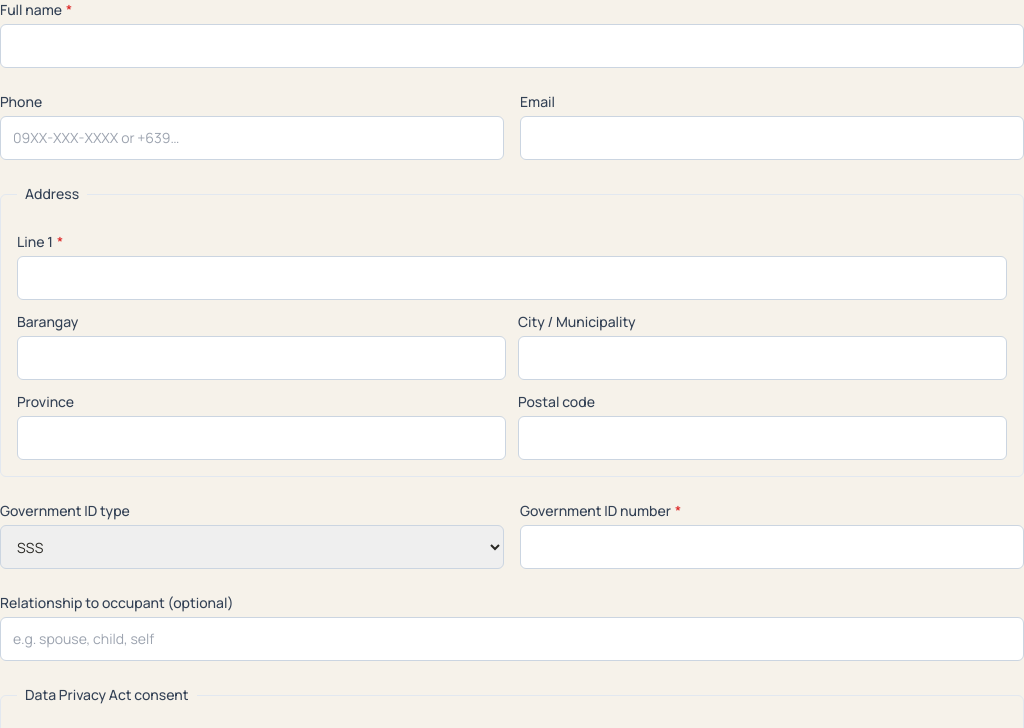
CustomerForm — AC5 dedupe alert › hides the alert when [Continue with new] is clicked
In the field labelled "Full name*": [512, 46] box [0,24,1023,68], type "Mar"
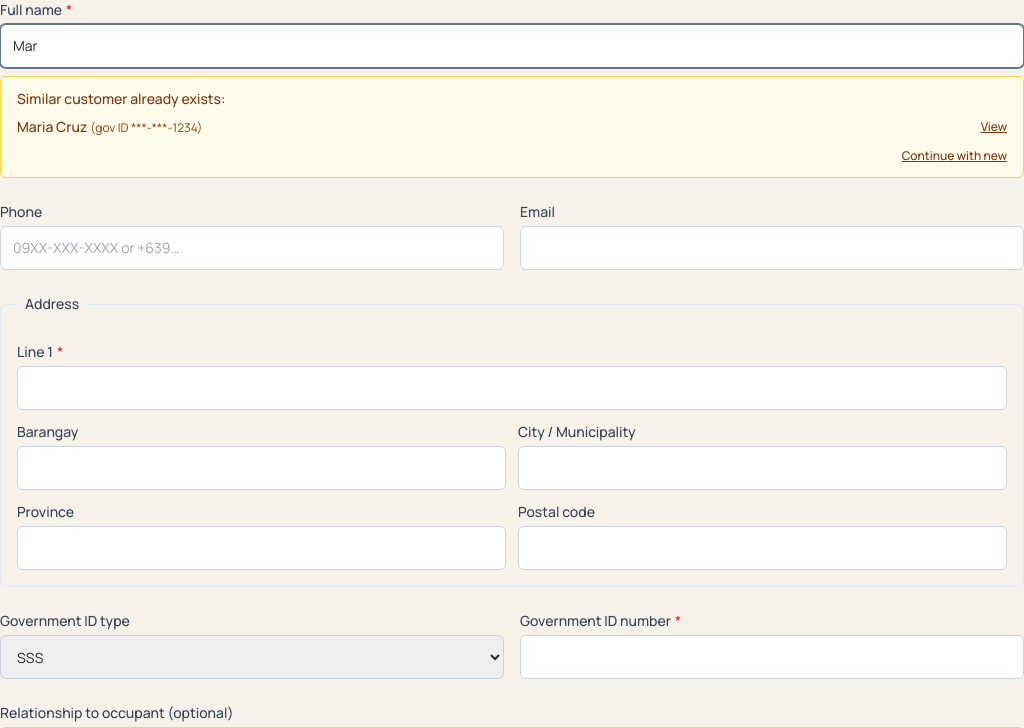
Expected: the message with test id "customer-dedupe-alert" is shown, [0,76,1023,178]
Click the button "Continue with new": [954, 156] box [902,148,1007,164]
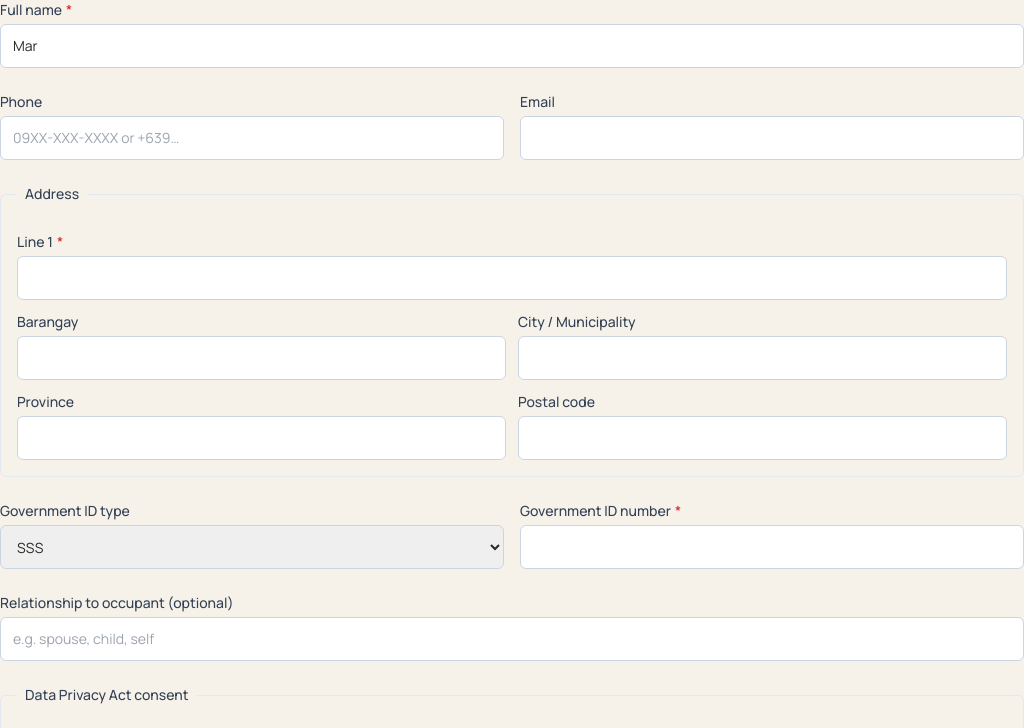
Expected: the message with test id "customer-dedupe-alert" is gone
